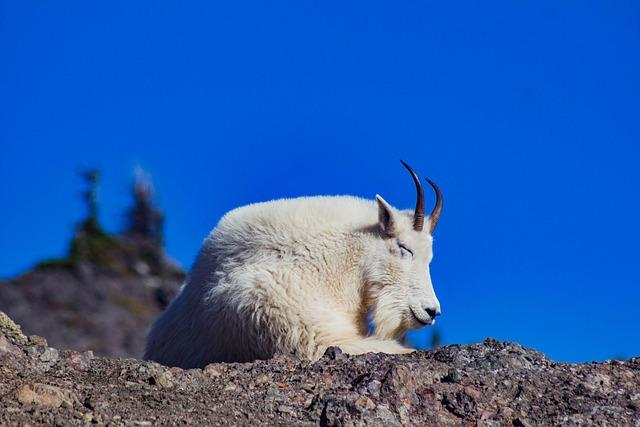Non_Gorille: (164, 92, 523, 427)
